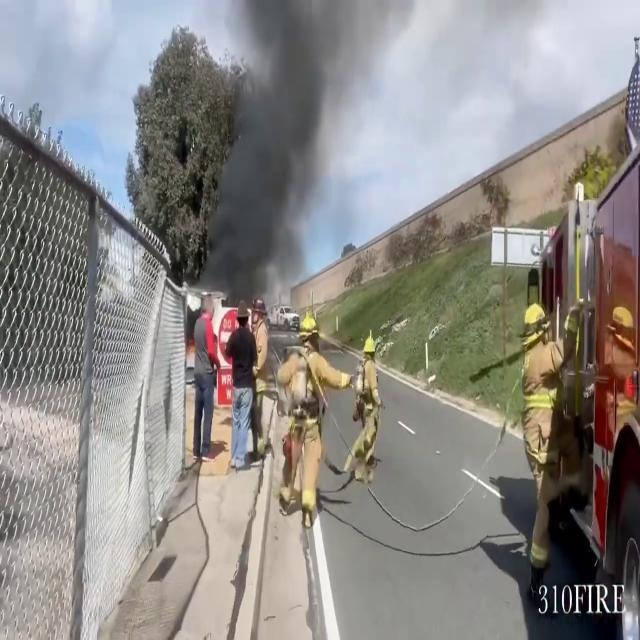Smoke: (204, 0, 372, 296)
